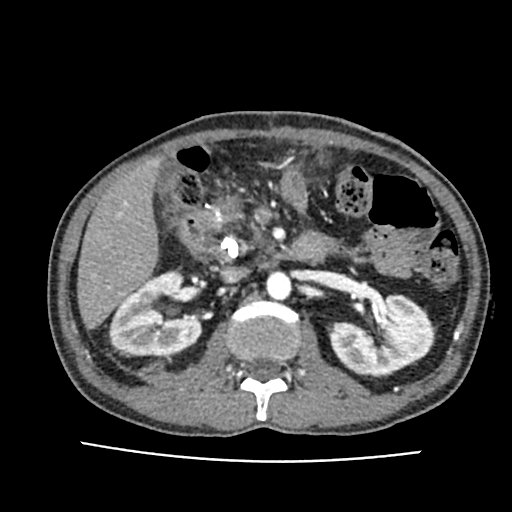aorta: (266, 291, 271, 301)
